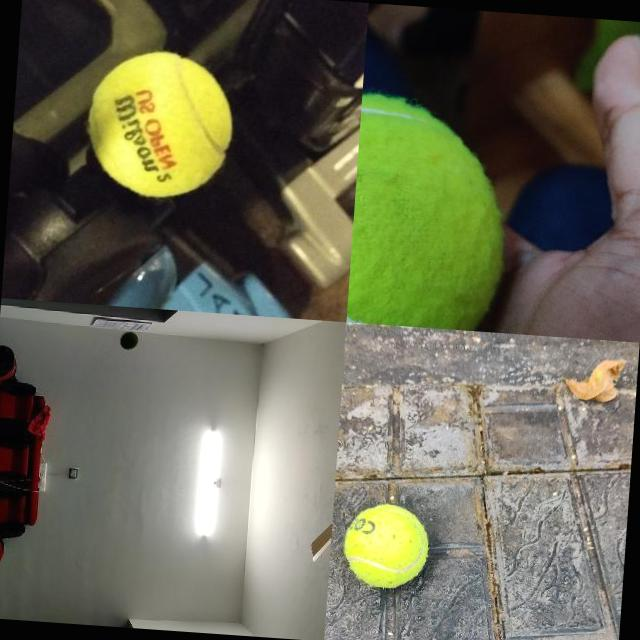Tennis Ball: (347, 91, 512, 332), (81, 46, 238, 204), (341, 499, 432, 591), (118, 331, 138, 351)
